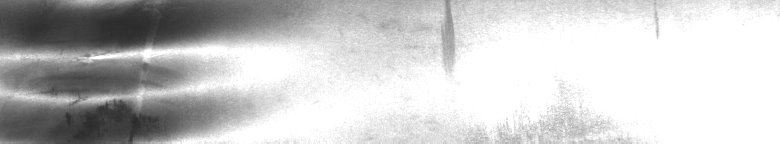ke: (4, 4, 212, 136)
